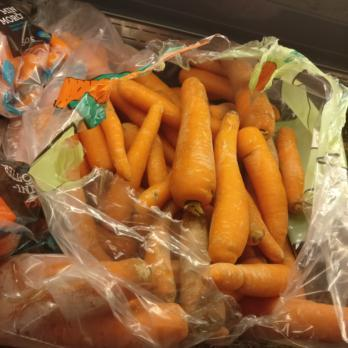Carrot: (89, 64, 307, 300), (168, 77, 216, 215)
